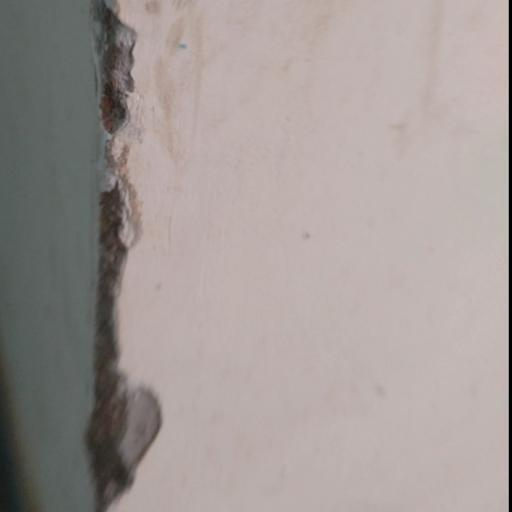spalling: (57, 0, 181, 512)
